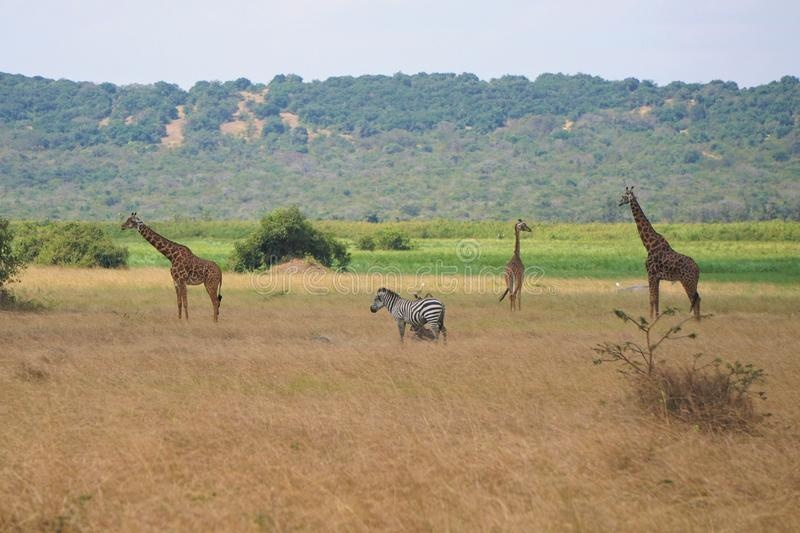giraffe: (616, 180, 716, 330), (117, 208, 230, 327), (499, 216, 537, 318)
zebra: (365, 285, 453, 348)
